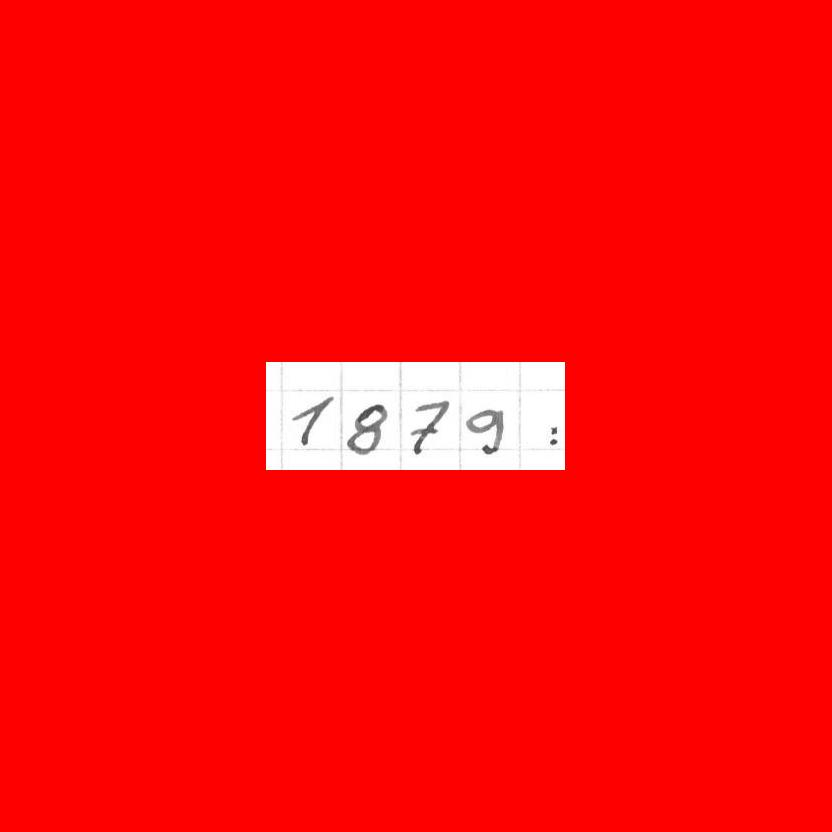Char: (288, 391, 335, 449), (408, 395, 450, 459), (344, 399, 390, 457), (464, 407, 506, 456), (546, 422, 562, 446)
